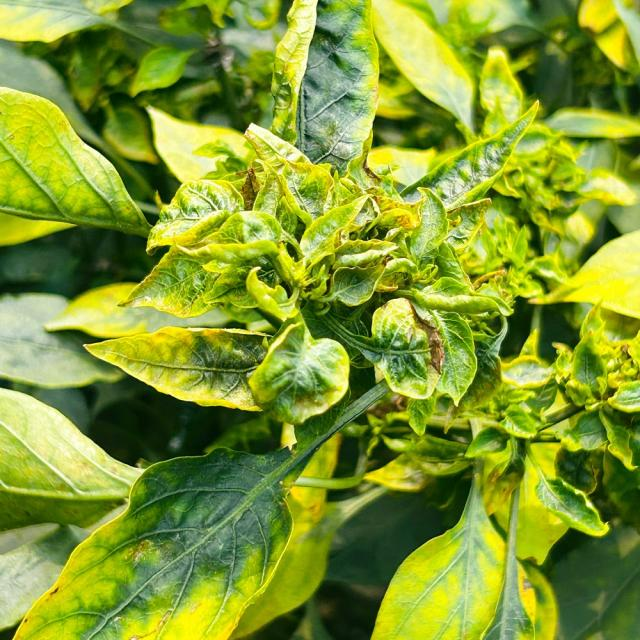Chilli_Leaf_Curl: (1, 1, 638, 638), (69, 104, 529, 432), (11, 445, 296, 639), (0, 85, 153, 245), (82, 324, 270, 413), (247, 312, 350, 425)
